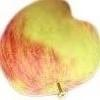fruit: (0, 0, 100, 96)
